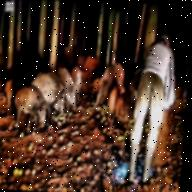boar: (9, 78, 52, 133), (30, 63, 69, 117), (52, 65, 81, 110), (72, 67, 84, 91)
